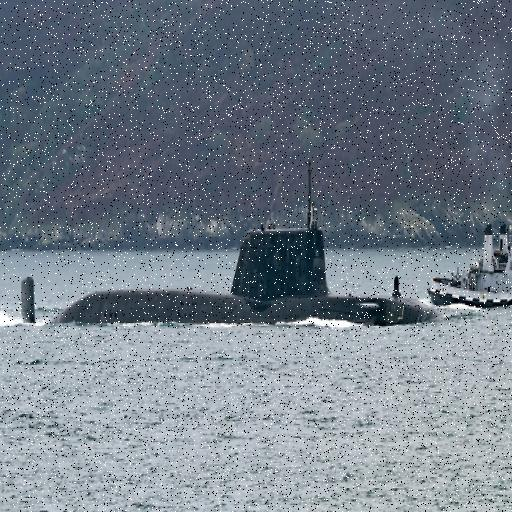submarine: (23, 216, 434, 327)
